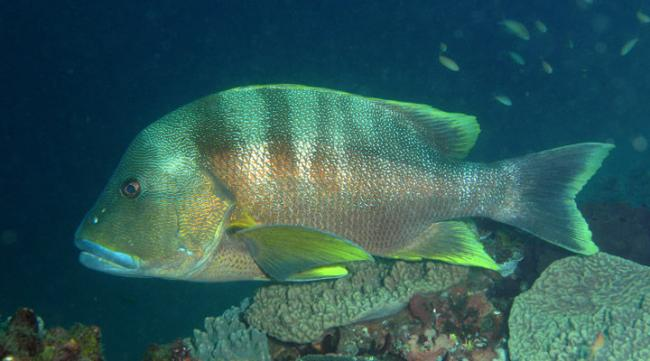fish: (74, 84, 617, 282)
